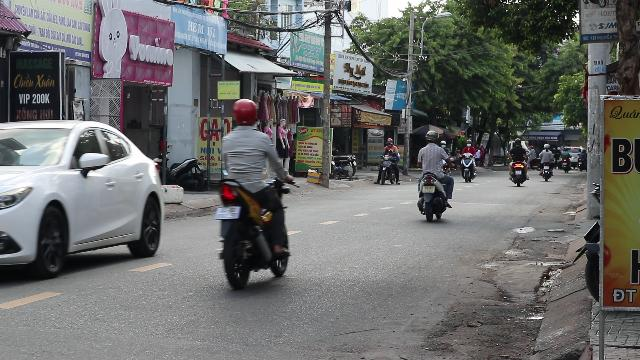helmet: (230, 98, 258, 126), (424, 130, 438, 144)
licenseplate: (215, 206, 239, 218), (422, 186, 434, 192)
motorcyclist: (210, 97, 296, 291), (414, 129, 454, 221)
